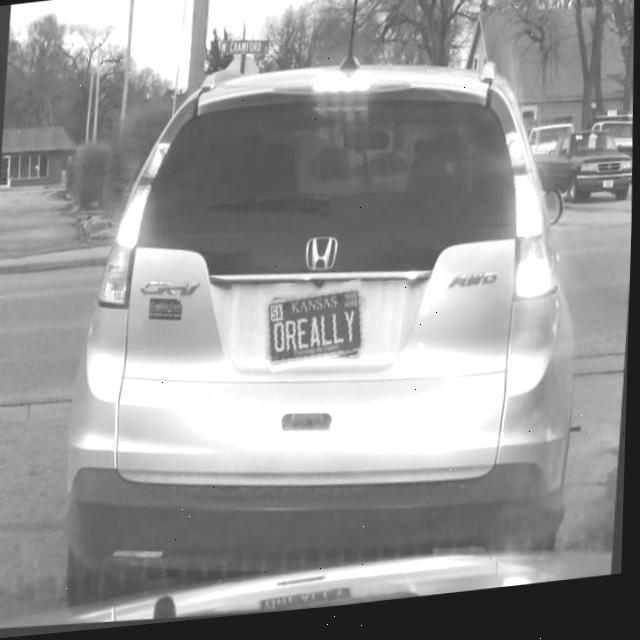LicensePlate: (268, 294, 366, 371)
